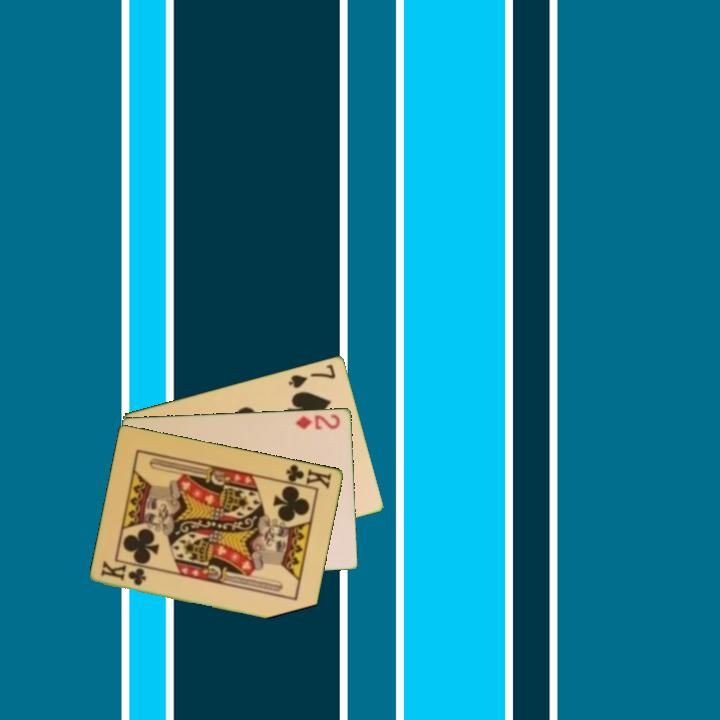2d: (292, 411, 343, 432)
7s: (285, 360, 339, 391)
Kc: (278, 461, 335, 491), (97, 558, 149, 588)
